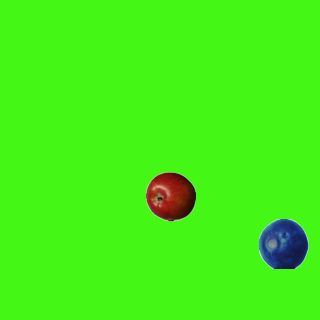Apple Braeburn: (145, 171, 195, 221)
Huckleberry: (258, 218, 308, 268)
